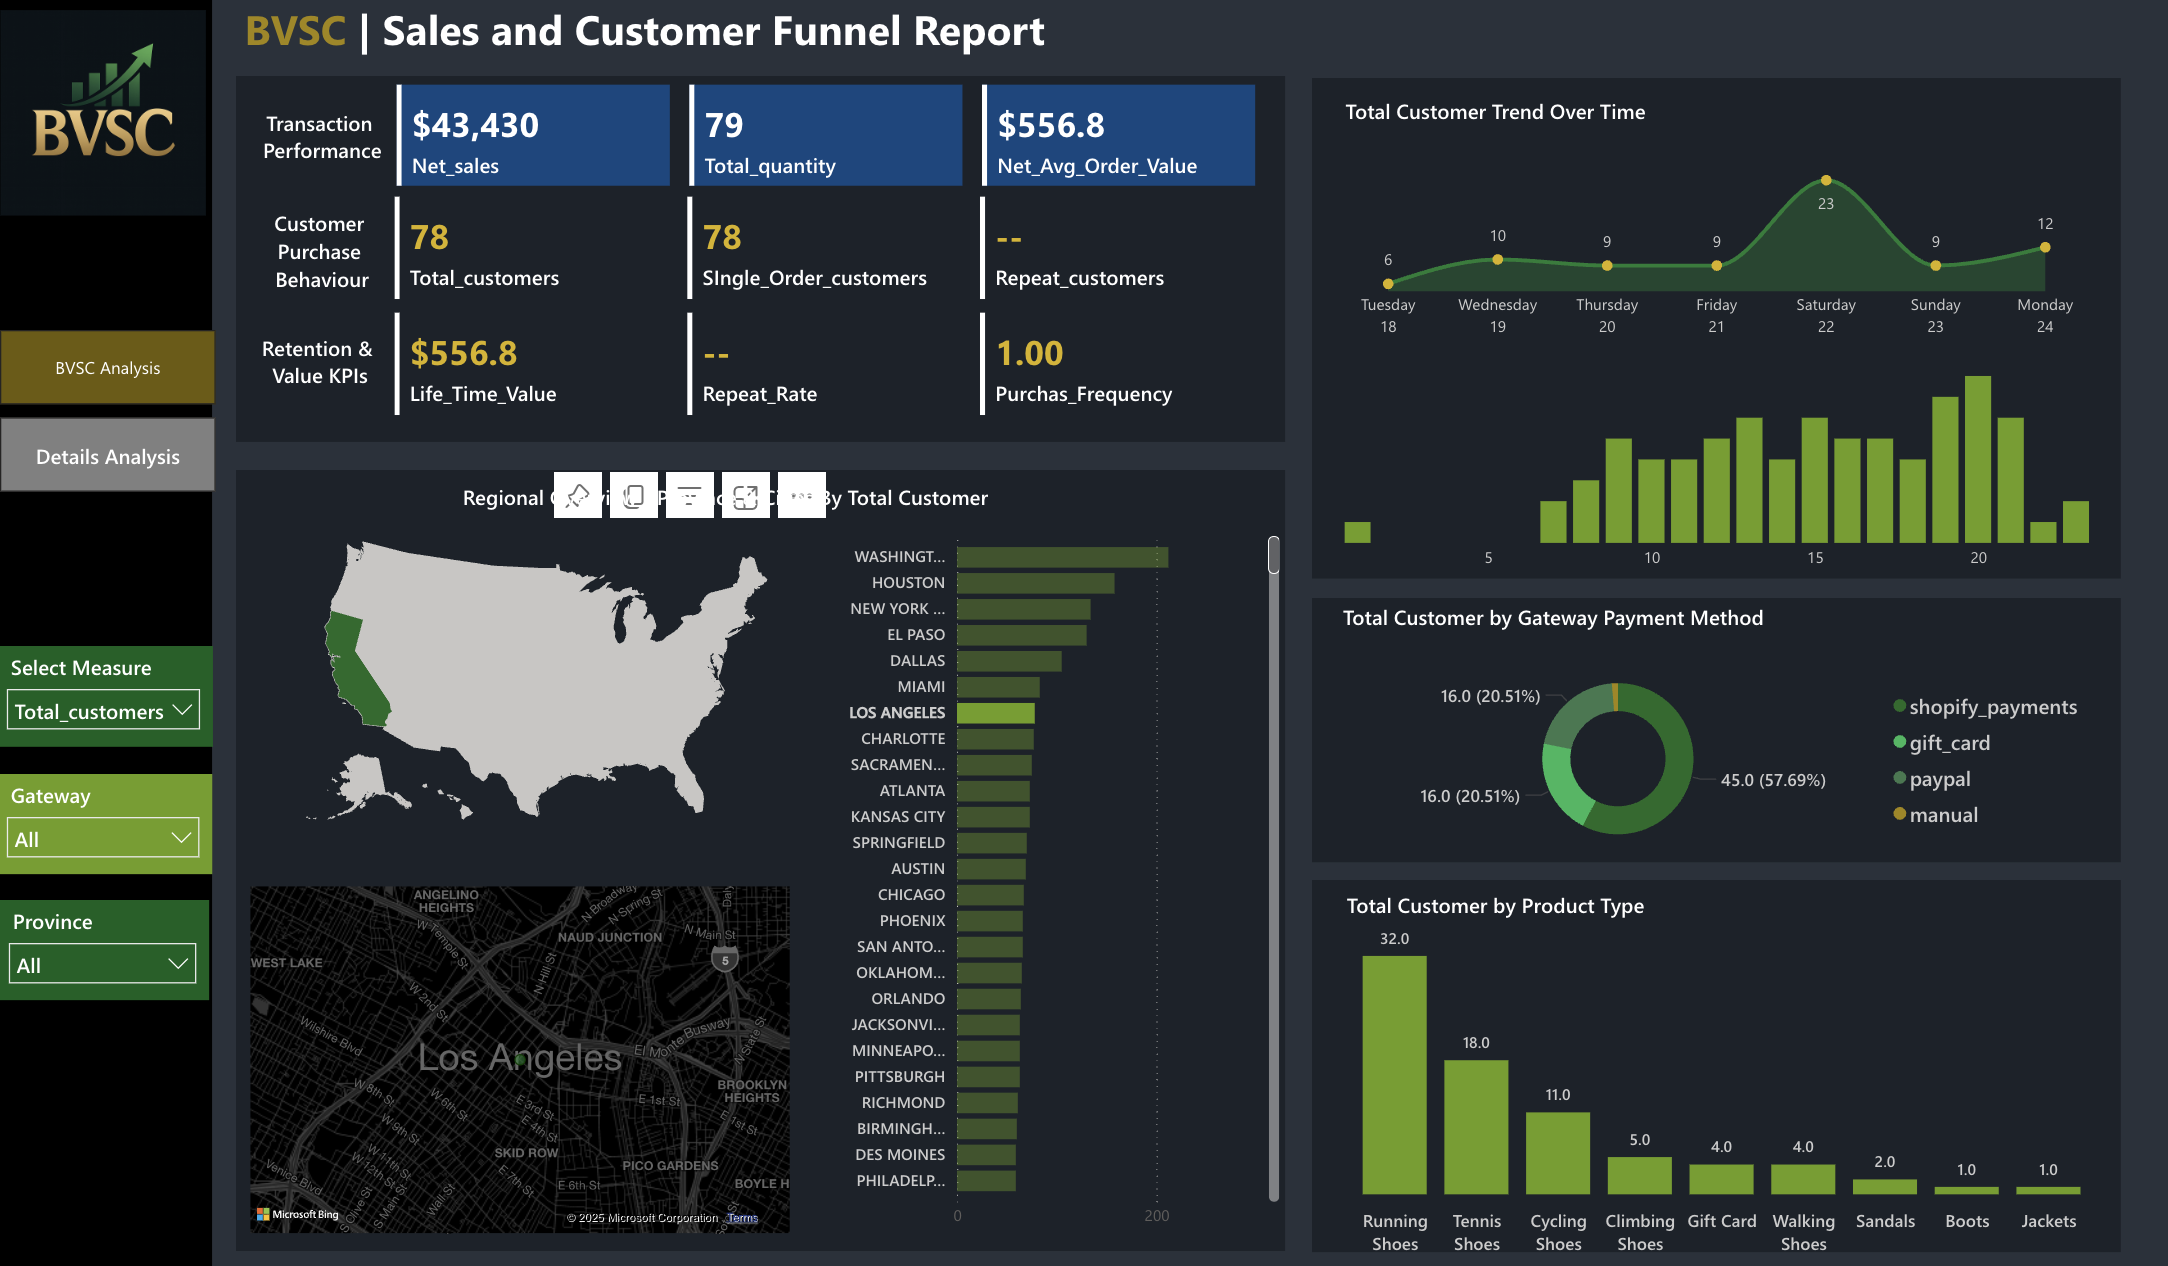

Layout of this report page (visuals, bound fields, positions):
{"tool":"powerbi","page":{"name":"BVSC Analysis","canvas":[1700,1000],"ordinal":0},"visuals":[{"type":"shape","box":[0,0,170,1000],"z":0},{"type":"textbox","box":[189.6,0,722.8,64.7],"z":1000},{"type":"shape","box":[188.8,64.3,817.3,285.1],"z":2000},{"type":"cardVisual","fields":{"Data":["shopify_sales.Net_sales","shopify_sales.Total_quantity","shopify_sales.Net_Avg_Order_Value"]},"box":[307.7,64.7,680.5,89.2],"z":3000},{"type":"card","fields":{"Values":["shopify_sales.Transaction Perf"]},"box":[169.6,66.9,171.8,87],"z":4000},{"type":"cardVisual","fields":{"Data":["shopify_sales.total_customers","shopify_sales.SIngle_Order_customers","shopify_sales.Repeat_customers"]},"box":[307.2,152.6,680.7,90.4],"z":5000},{"type":"card","fields":{"Values":["shopify_sales.purch_beha"]},"box":[178.7,152.6,152.6,88.3],"z":6000},{"type":"cardVisual","fields":{"Data":["shopify_sales.Life_Time_Value","shopify_sales.Repeat_Rate","shopify_sales.Purchas_Frequency"]},"box":[307.2,243,680.7,90.4],"z":7000},{"type":"card","fields":{"Values":["shopify_sales.Retention & Value KPIs"]},"box":[194.8,241,118.5,88.3],"z":8000},{"type":"shape","box":[188.8,371.5,817.3,608.4],"z":9000},{"type":"shapeMap","fields":{"Value":["shopify_sales.Total_customers"],"Category":["shopify_sales.Billing Address Province"]},"box":[194,410,456,250],"z":10000},{"type":"slicer","fields":{"Values":["Select Measure.Select Measure"]},"box":[0,507.3,170.7,78.3],"z":11000},{"type":"map","fields":{"Category":["shopify_sales.LOCATION"]},"box":[194,690,430,280],"z":12000},{"type":"clusteredBarChart","fields":{"Y":["shopify_sales.Total_customers"],"Category":["shopify_sales.CITY"]},"box":[648,410,358,560],"z":13000},{"type":"card","fields":{"Values":["shopify_sales.Map Title"]},"box":[342,366,454,56],"z":14000},{"type":"shape","box":[1026,66,630,390],"z":15000},{"type":"areaChart","fields":{"Y":["shopify_sales.Total_customers"],"Category":["shopify_sales.Invoice Date.Variation.Date Hierarchy.Day","shopify_sales.weekday"]},"box":[1046,122,590,160],"z":16000},{"type":"columnChart","fields":{"Y":["shopify_sales.Total_customers"],"Category":["shopify_sales.hour"]},"box":[1046,284,590,174],"z":17000},{"type":"card","fields":{"Values":["shopify_sales.Trend Title"]},"box":[1026,66,286,56],"z":18000},{"type":"shape","box":[1026,470,630,206],"z":19000},{"type":"donutChart","fields":{"Y":["shopify_sales.Total_customers"],"Category":["shopify_sales.Gateway"]},"box":[1046,516,590,160],"z":20000},{"type":"card","fields":{"Values":["Select Measure.gateway_title"]},"box":[1026,460,376,56],"z":21000},{"type":"shape","box":[1026,690,630,290],"z":22000},{"type":"columnChart","fields":{"Y":["shopify_sales.Total_customers"],"Category":["shopify_sales.Product Type"]},"box":[1026,712,630,278],"z":23000},{"type":"card","fields":{"Values":["shopify_sales.product_titel"]},"box":[1026,684,286,56],"z":24000},{"type":"slicer","fields":{"Values":["shopify_sales.Gateway"]},"box":[0,606.8,170,78],"z":25000},{"type":"slicer","fields":{"Values":["shopify_sales.Billing Address Province"]},"box":[2,706,166,78],"z":26000},{"type":"pageNavigator","box":[4,262,168,126],"z":26001},{"type":"image","box":[0,2,170,182],"z":26002}]}

Visuals, with their boxes on the page's 1700x1000 design canvas (x1, y1, x2, y2). These are canvas units, not pixel positions in the 2168x1266 screenshot, which may show the page scaled, cropped or inside an application window:
shape: {"left": 0, "top": 0, "right": 170, "bottom": 1000}
textbox: {"left": 190, "top": 0, "right": 912, "bottom": 65}
shape: {"left": 189, "top": 64, "right": 1006, "bottom": 349}
cardVisual - shopify_sales.Net_sales x shopify_sales.Total_quantity: {"left": 308, "top": 65, "right": 988, "bottom": 154}
card - shopify_sales.Transaction Perf: {"left": 170, "top": 67, "right": 341, "bottom": 154}
cardVisual - shopify_sales.total_customers x shopify_sales.SIngle_Order_customers: {"left": 307, "top": 153, "right": 988, "bottom": 243}
card - shopify_sales.purch_beha: {"left": 179, "top": 153, "right": 331, "bottom": 241}
cardVisual - shopify_sales.Life_Time_Value x shopify_sales.Repeat_Rate: {"left": 307, "top": 243, "right": 988, "bottom": 333}
card - shopify_sales.Retention & Value KPIs: {"left": 195, "top": 241, "right": 313, "bottom": 329}
shape: {"left": 189, "top": 372, "right": 1006, "bottom": 980}
shapeMap - shopify_sales.Total_customers x shopify_sales.Billing Address Province: {"left": 194, "top": 410, "right": 650, "bottom": 660}
slicer - Select Measure.Select Measure: {"left": 0, "top": 507, "right": 171, "bottom": 586}
map - shopify_sales.LOCATION: {"left": 194, "top": 690, "right": 624, "bottom": 970}
clusteredBarChart - shopify_sales.Total_customers x shopify_sales.CITY: {"left": 648, "top": 410, "right": 1006, "bottom": 970}
card - shopify_sales.Map Title: {"left": 342, "top": 366, "right": 796, "bottom": 422}
shape: {"left": 1026, "top": 66, "right": 1656, "bottom": 456}
areaChart - shopify_sales.Total_customers x shopify_sales.Invoice Date.Variation.Date Hierarchy.Day: {"left": 1046, "top": 122, "right": 1636, "bottom": 282}
columnChart - shopify_sales.Total_customers x shopify_sales.hour: {"left": 1046, "top": 284, "right": 1636, "bottom": 458}
card - shopify_sales.Trend Title: {"left": 1026, "top": 66, "right": 1312, "bottom": 122}
shape: {"left": 1026, "top": 470, "right": 1656, "bottom": 676}
donutChart - shopify_sales.Total_customers x shopify_sales.Gateway: {"left": 1046, "top": 516, "right": 1636, "bottom": 676}
card - Select Measure.gateway_title: {"left": 1026, "top": 460, "right": 1402, "bottom": 516}
shape: {"left": 1026, "top": 690, "right": 1656, "bottom": 980}
columnChart - shopify_sales.Total_customers x shopify_sales.Product Type: {"left": 1026, "top": 712, "right": 1656, "bottom": 990}
card - shopify_sales.product_titel: {"left": 1026, "top": 684, "right": 1312, "bottom": 740}
slicer - shopify_sales.Gateway: {"left": 0, "top": 607, "right": 170, "bottom": 685}
slicer - shopify_sales.Billing Address Province: {"left": 2, "top": 706, "right": 168, "bottom": 784}
pageNavigator: {"left": 4, "top": 262, "right": 172, "bottom": 388}
image: {"left": 0, "top": 2, "right": 170, "bottom": 184}
